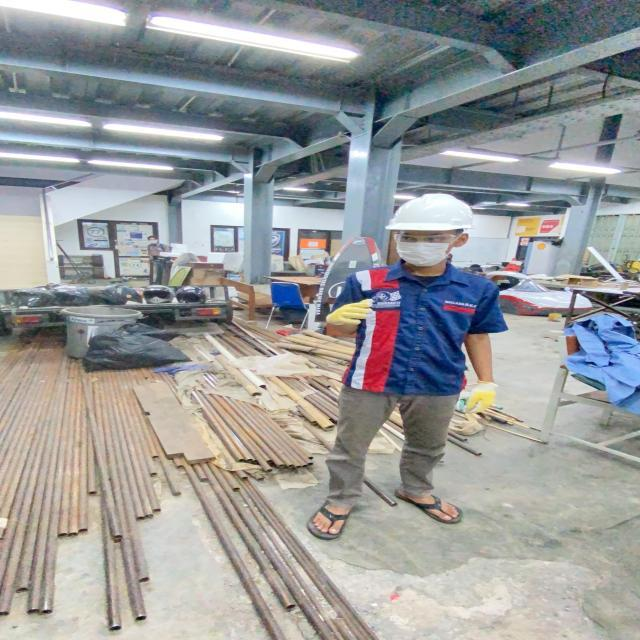glasses: (386, 230, 468, 247)
